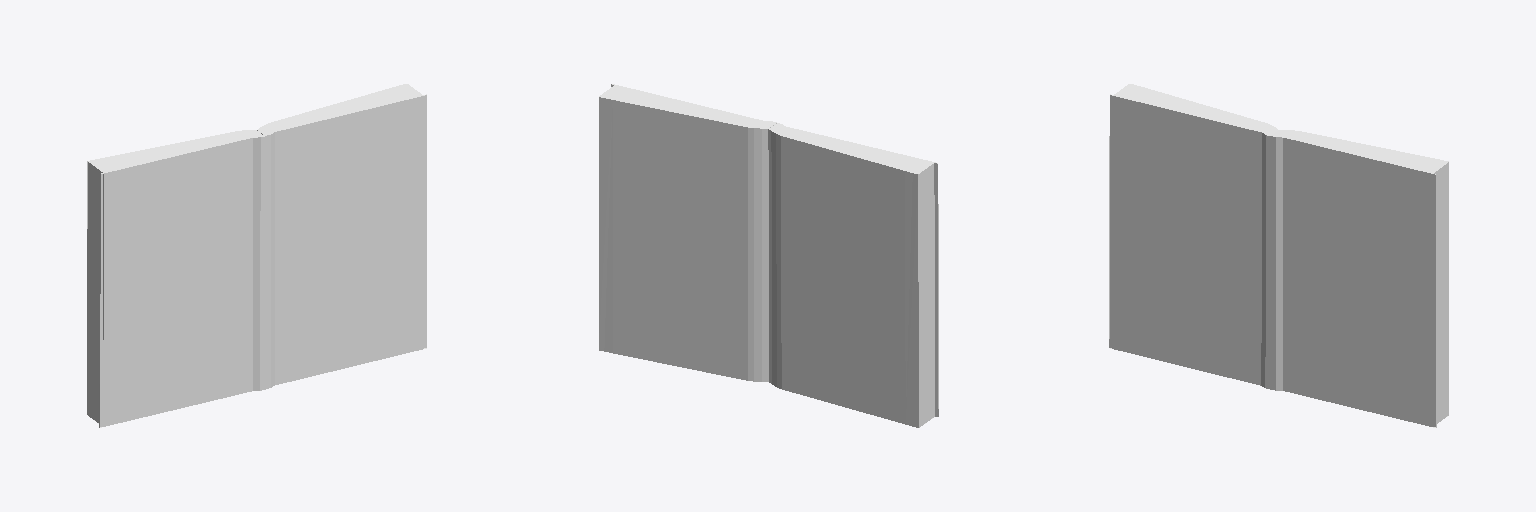
The model's file is book-of-red-dust.obj.
The picture shows the model from 3 angles: view 1: azimuth 30°, elevation 25°; view 2: azimuth 150°, elevation 25°; view 3: azimuth 330°, elevation 25°; orthographic projection.
Visible parts, largest first — view 1: Cthun; view 2: Cthun; view 3: Cthun.
Boxes of the visible parts, <box> form: Cthun: <box>87,84,426,427</box>; Cthun: <box>599,84,938,427</box>; Cthun: <box>1109,84,1448,427</box>.
Size of the model in its own units: 1.54 by 1.15 by 0.1512.